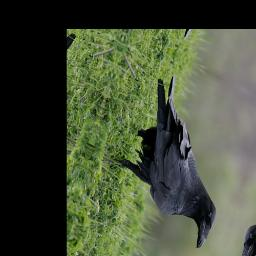Crow: (102, 59, 247, 253)
